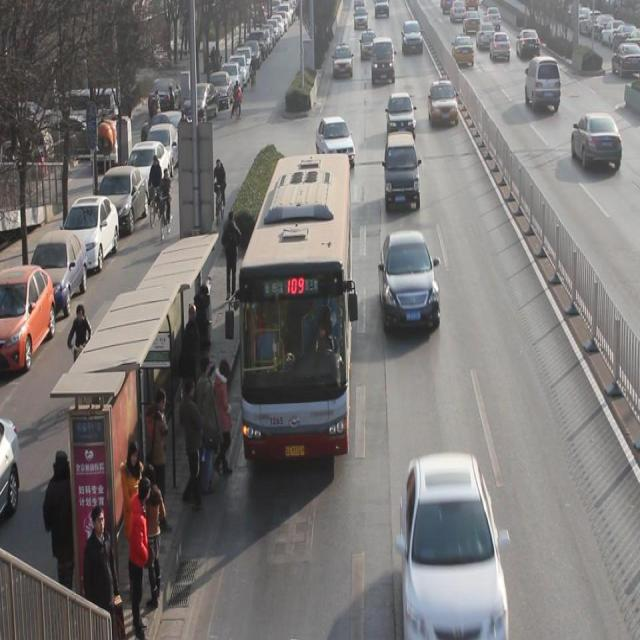car: (401, 451, 509, 640), (378, 230, 441, 332), (570, 112, 622, 170), (315, 118, 355, 168), (427, 76, 458, 126), (387, 92, 415, 136), (516, 27, 540, 59), (402, 21, 424, 55), (333, 42, 353, 79), (452, 34, 475, 66), (490, 30, 511, 61), (476, 21, 495, 49), (361, 29, 376, 62)
truck: (383, 133, 420, 210), (524, 56, 561, 111), (372, 36, 395, 84)
van: (240, 151, 352, 458)
